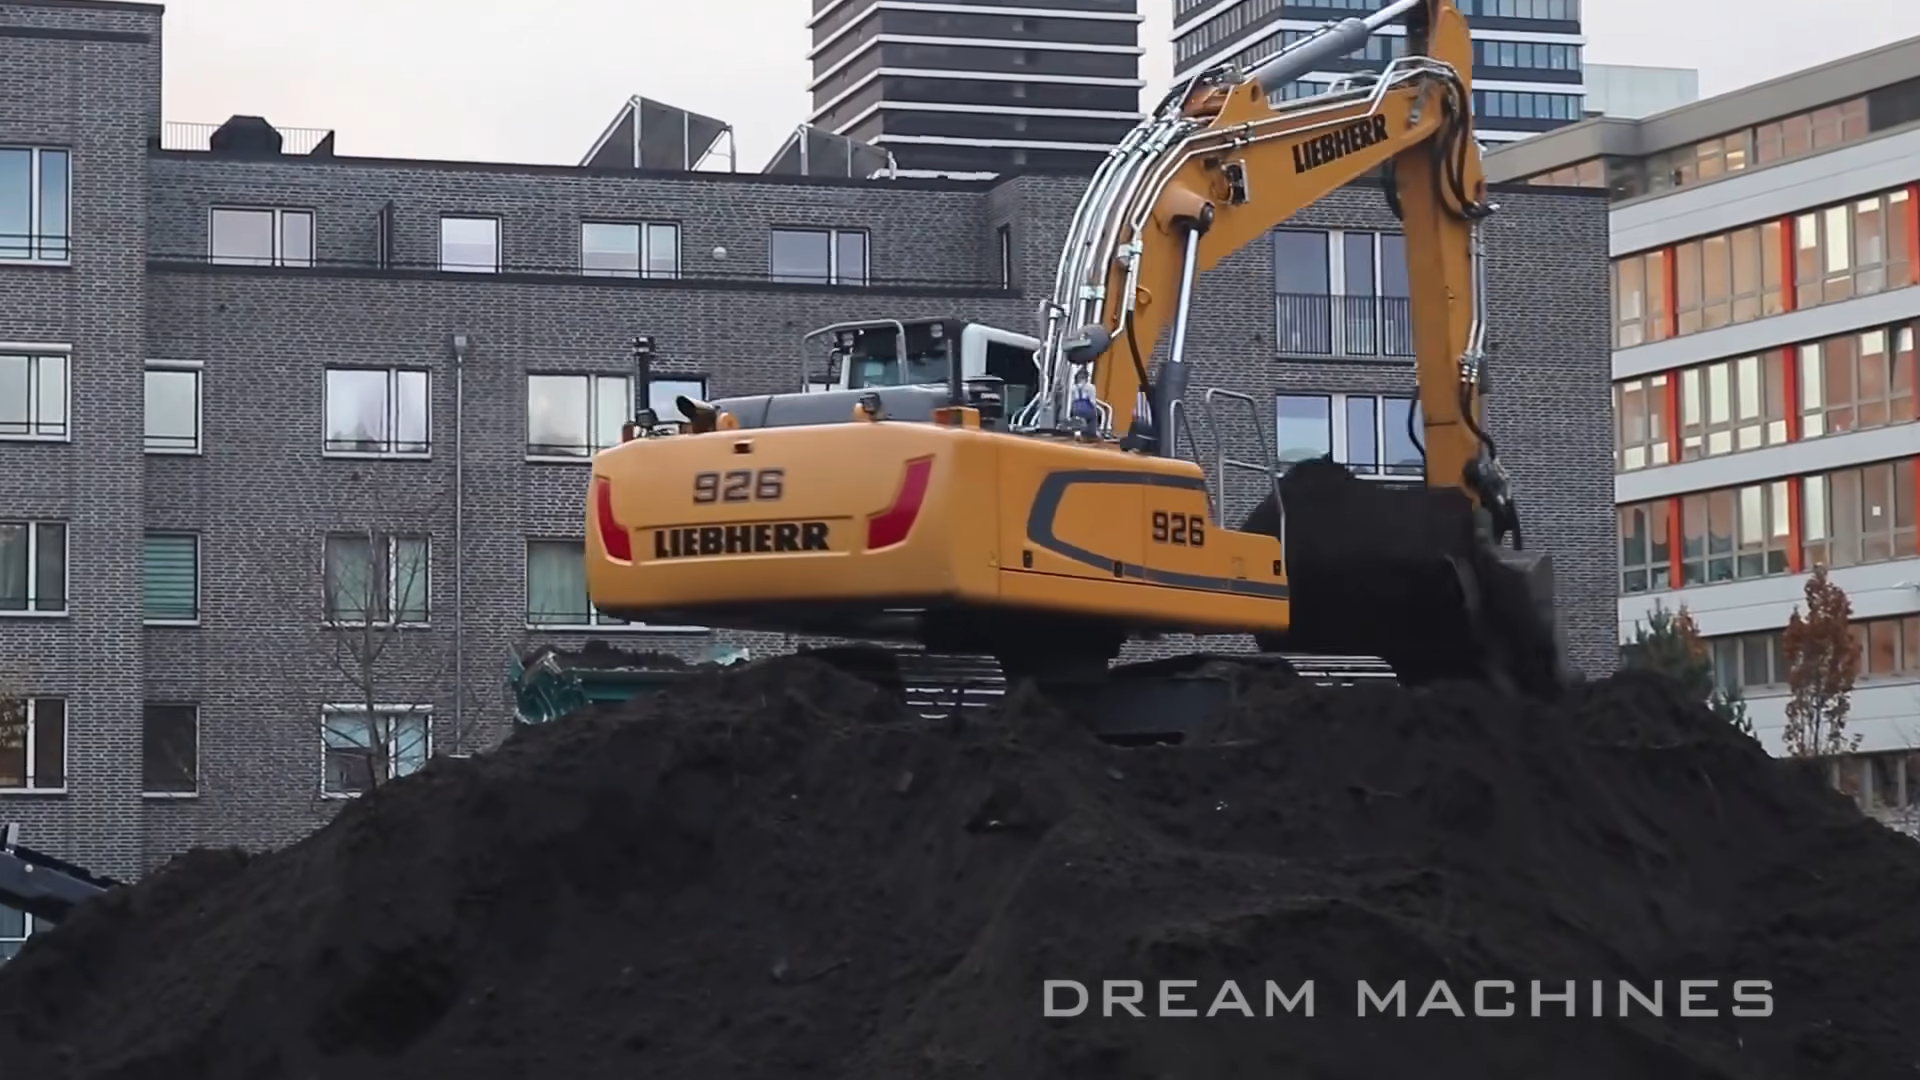excavator: (597, 9, 1538, 756)
